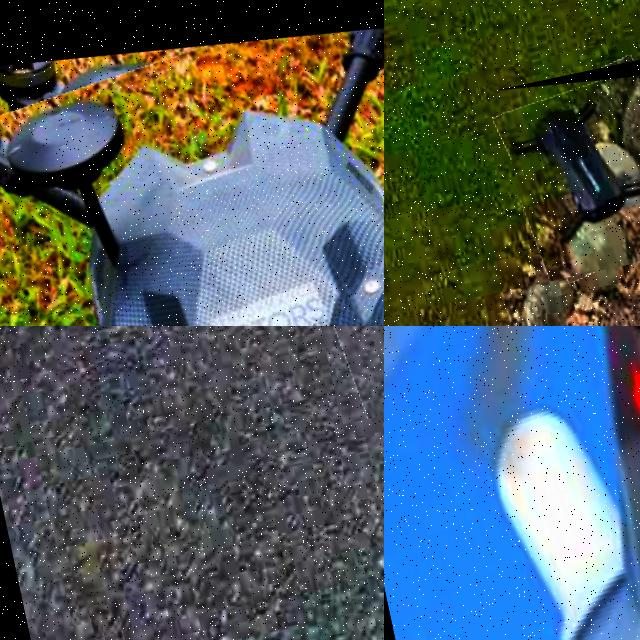drone: (0, 0, 384, 326), (384, 326, 640, 640), (496, 54, 640, 283)
